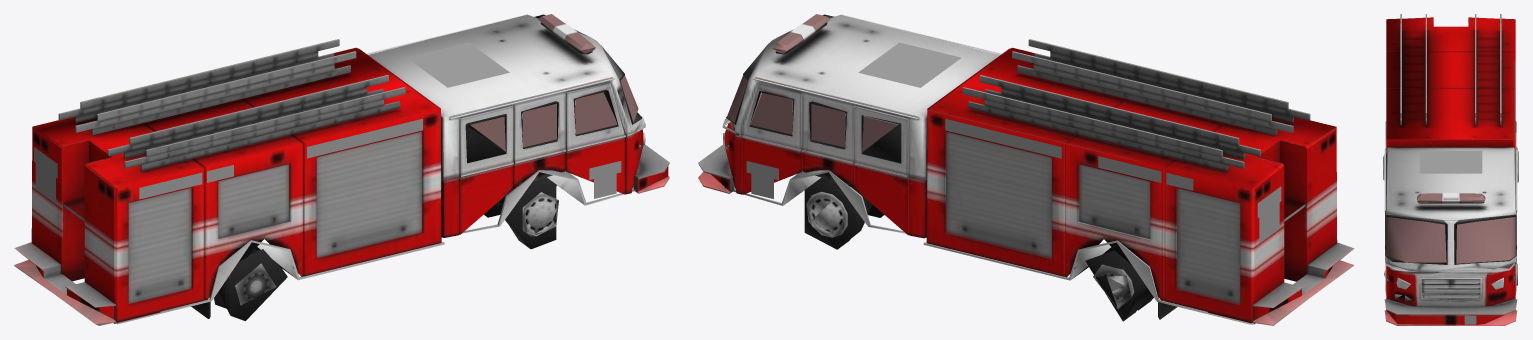
File: civ-firetruck.lod1.glb
3 renders of one model, left to right at view 1: azimuth 30°, elevation 25°; view 2: azimuth 150°, elevation 25°; view 3: azimuth 270°, elevation 25°, orthographic. The views are drawn at different scales.
Visible parts, largest first — view 1: fire_truck_firetruck_0, fire_truck_firetruck_glass_0; view 2: fire_truck_firetruck_0, fire_truck_firetruck_glass_0; view 3: fire_truck_firetruck_0, fire_truck_firetruck_glass_0.
Boxes of the visible parts, x1,y1,x2,y2 form: fire_truck_firetruck_0: (14, 14, 669, 325); fire_truck_firetruck_glass_0: (34, 14, 642, 203); fire_truck_firetruck_0: (698, 14, 1354, 325); fire_truck_firetruck_glass_0: (725, 14, 1281, 242); fire_truck_firetruck_0: (1383, 14, 1518, 325); fire_truck_firetruck_glass_0: (1386, 150, 1515, 324).
Bounding box in the file's own units: 7.28 × 2.22 × 1.93.
2 materials, 1 textured.
